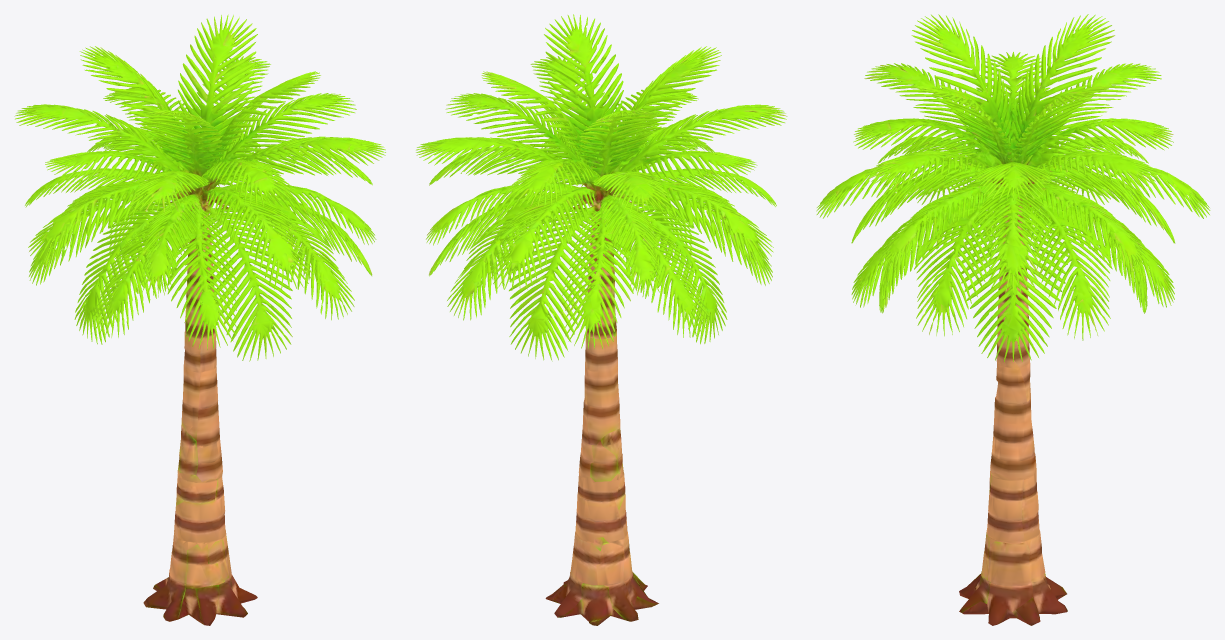
Rendered from tree_palm_mid.glb.
The picture shows the model from 3 angles, left to right: view 1: azimuth 30°, elevation 25°; view 2: azimuth 150°, elevation 25°; view 3: azimuth 270°, elevation 25°; orthographic projection. The views are drawn at different scales.
Size of the model in its own units: 1.23 by 1.89 by 1.23.
1 material, 1 textured.
